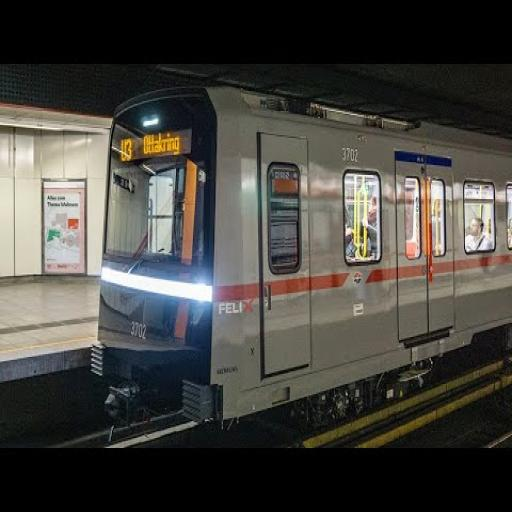X-Wagen: (88, 86, 512, 428)
